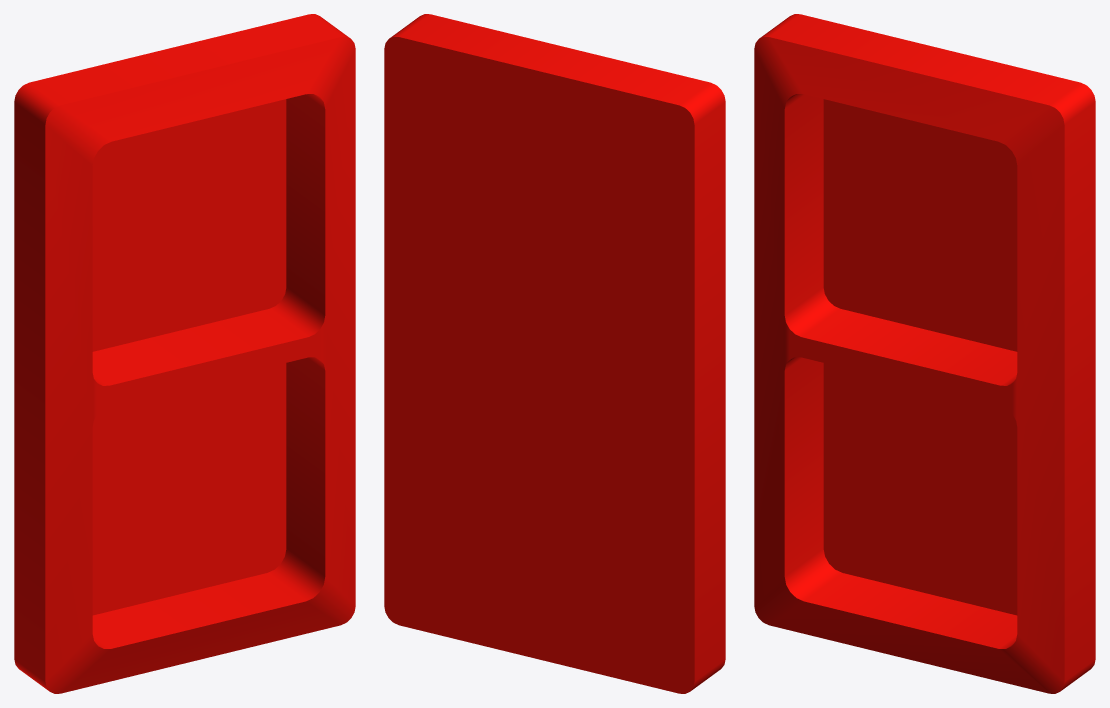
The model's file is SocketCase02.fbx.
3 views of the same model, side by side, from view 1: azimuth 30°, elevation 25°; view 2: azimuth 150°, elevation 25°; view 3: azimuth 330°, elevation 25° (orthographic).
Parts seen in each view (by area): view 1: SocketCase02; view 2: SocketCase02; view 3: SocketCase02.
Part boxes in pixels (box(x1,y1,x2,y2)): SocketCase02: box(14, 14, 355, 693); SocketCase02: box(384, 14, 725, 693); SocketCase02: box(754, 14, 1095, 693).
Bounding box in the file's own units: 8 × 14.5 × 1.77.
